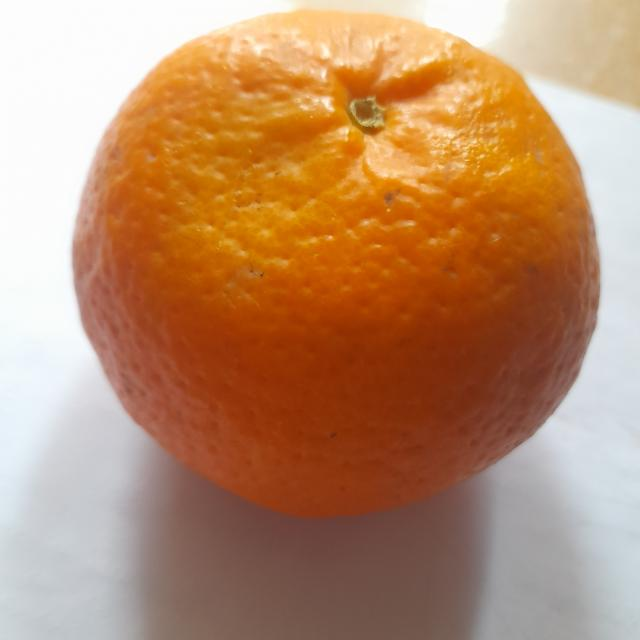Cam: (73, 8, 605, 537)
